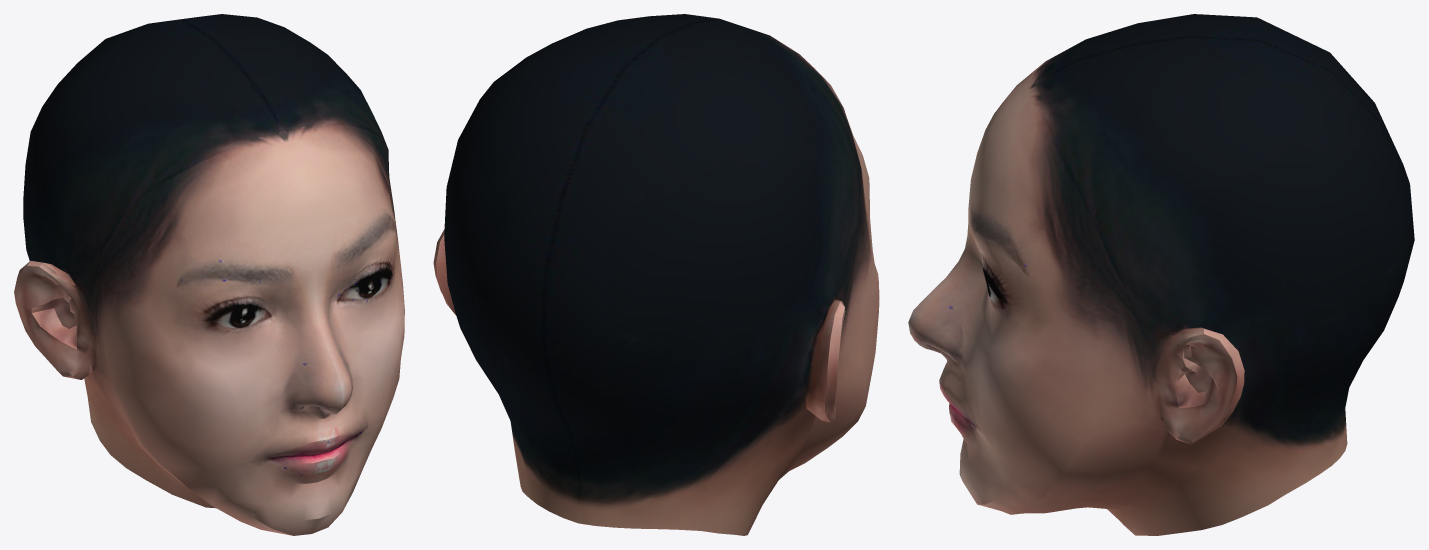
3 views of the same model, side by side, from view 1: azimuth 30°, elevation 25°; view 2: azimuth 150°, elevation 25°; view 3: azimuth 270°, elevation 25° (orthographic). The views are drawn at different scales.
Visible parts, largest first — view 1: face_li:face_normal face_li:polySurface1; view 2: face_li:face_normal face_li:polySurface1; view 3: face_li:face_normal face_li:polySurface1.
Part boxes in pixels (x1,y1,x2,y2): face_li:face_normal face_li:polySurface1: [14, 14, 404, 535]; face_li:face_normal face_li:polySurface1: [433, 14, 879, 535]; face_li:face_normal face_li:polySurface1: [908, 14, 1414, 535].
Bounding box in the file's own units: 18.77 × 22.64 × 21.27.
